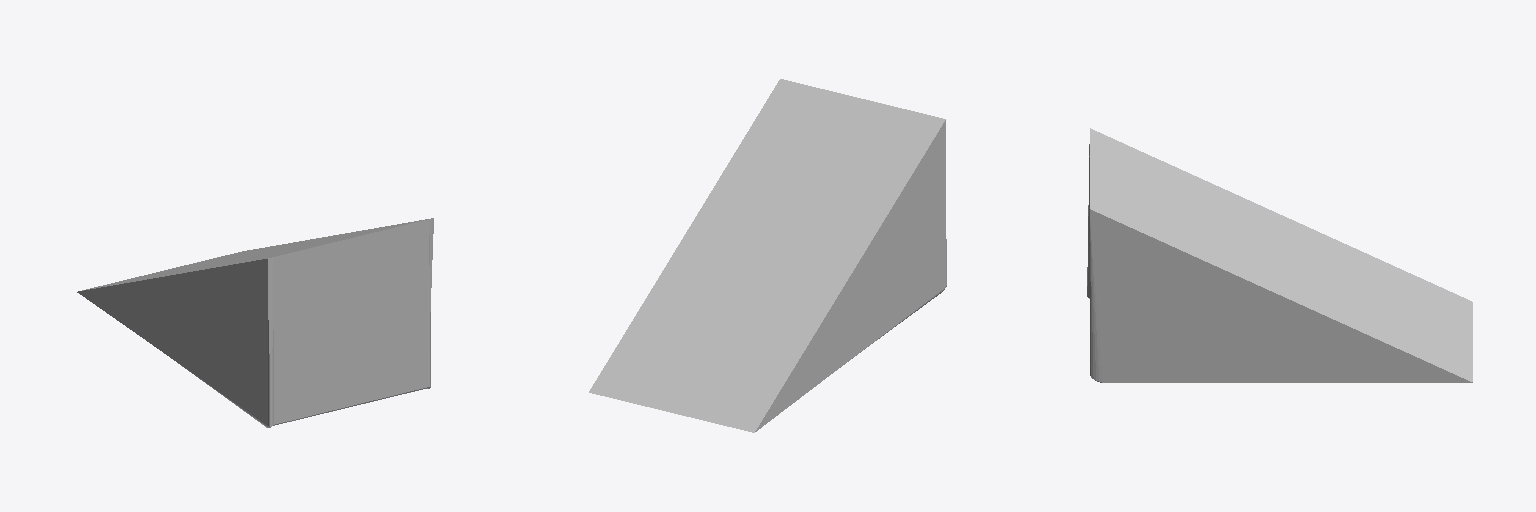
3 renders of one model, left to right at view 1: azimuth 30°, elevation 25°; view 2: azimuth 150°, elevation 25°; view 3: azimuth 270°, elevation 25°, orthographic.
Parts seen in each view (by area): view 1: triangle; view 2: triangle; view 3: triangle.
Part boxes in pixels (x1,y1,x2,y2): triangle: (77, 218, 433, 427); triangle: (589, 79, 946, 432); triangle: (1087, 128, 1472, 382).
Bounding box in the file's own units: 1 × 1.01 × 2.01.